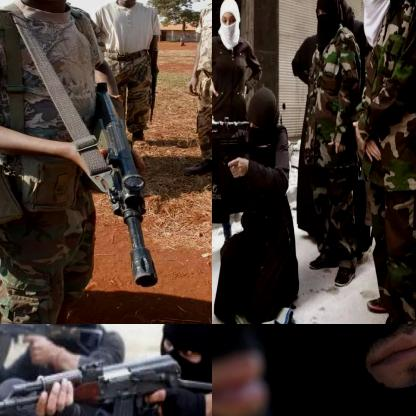rifle: (84, 88, 166, 289), (0, 352, 211, 415), (0, 324, 102, 385), (212, 115, 275, 174)
